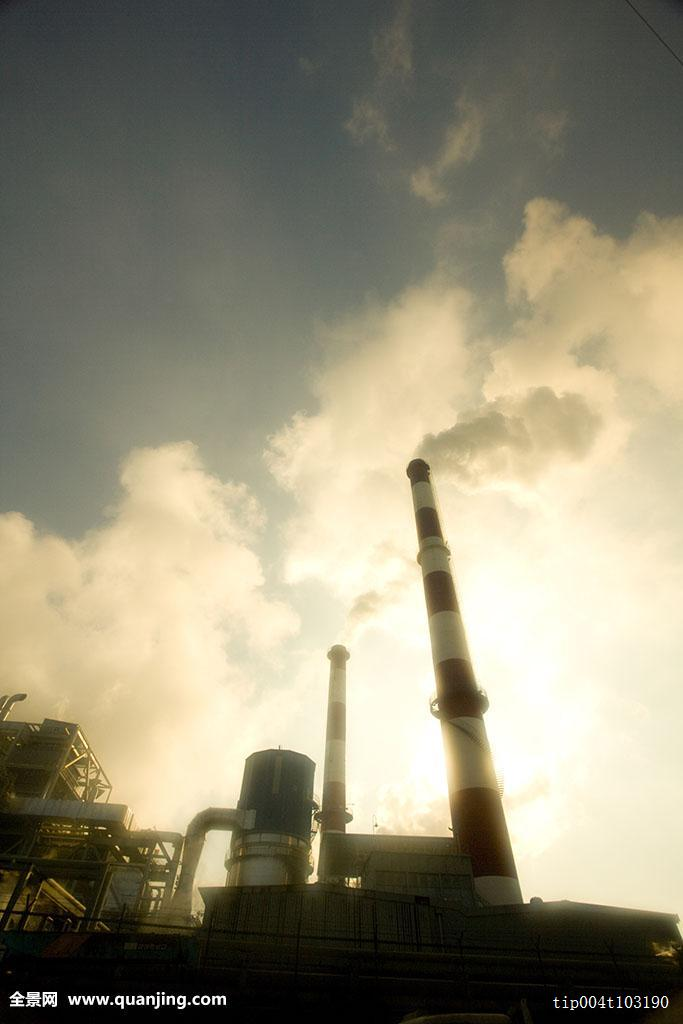dust: (379, 383, 622, 500), (314, 561, 412, 681)
